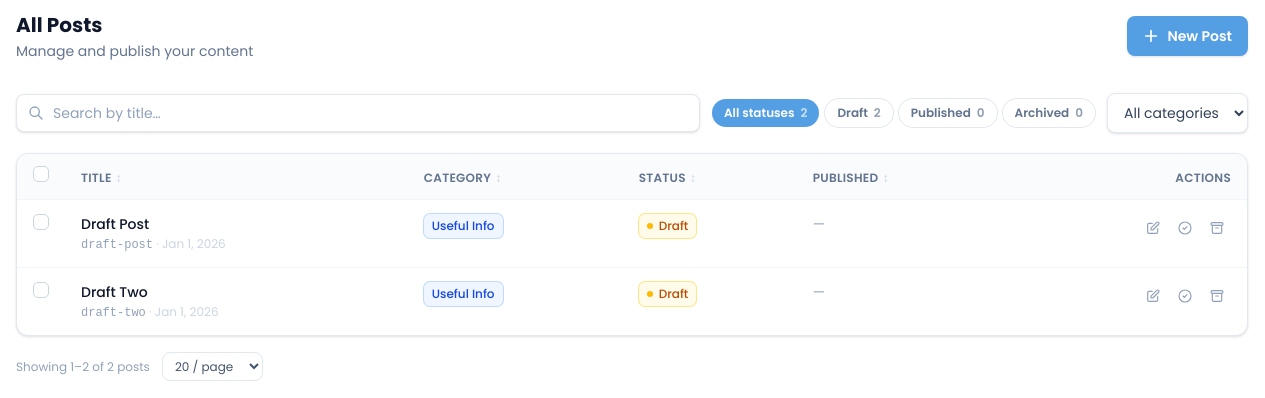
Test: DashboardClient › disables row actions while a row action is in flight
This screenshot has width=1265, height=398.
Click the button titled "Publish" in the row of "Draft Post".
click(1185, 228)  # box [1171,214,1199,242]
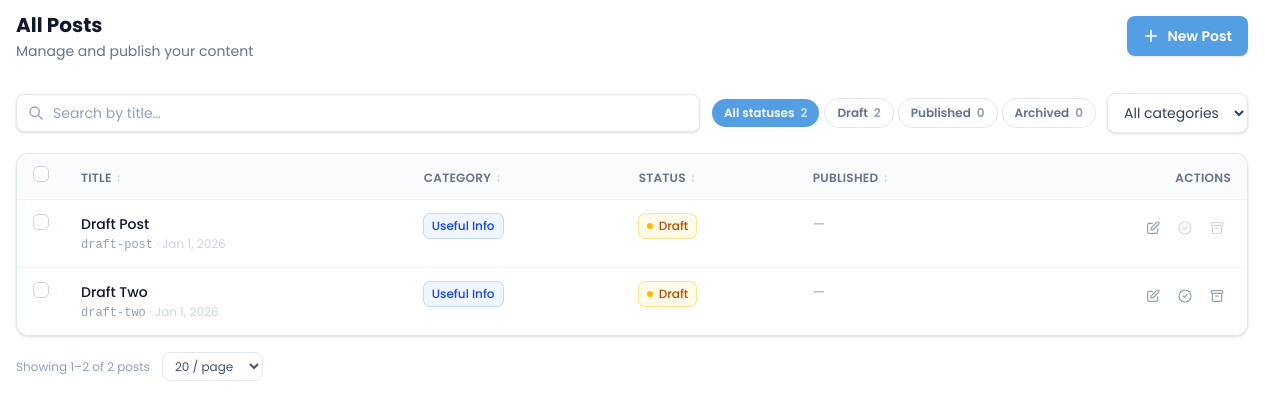
expect the button titled "Publish" in the row of "Draft Two" is enabled: met, box [1171,282,1199,310]
expect the button titled "Publish" in the row of "Draft Post" is disabled: met, box [1171,214,1199,242]
expect the button titled "Archive" in the row of "Draft Post" is disabled: met, box [1203,214,1231,242]
